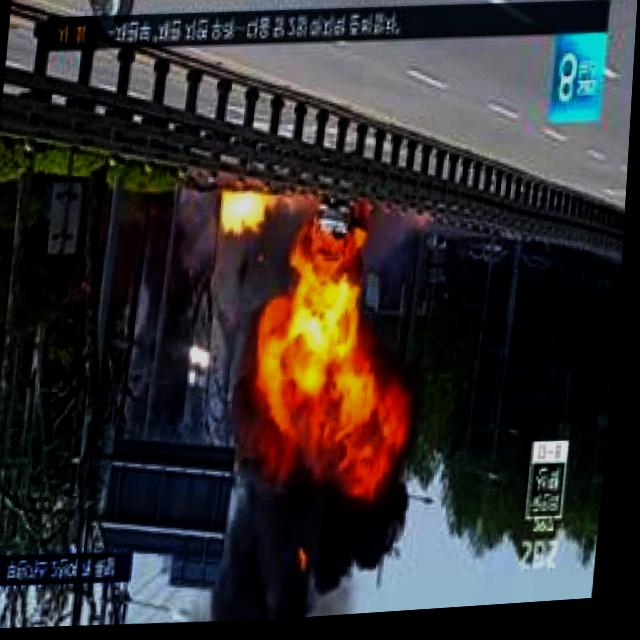Fire: (234, 197, 438, 517), (218, 192, 269, 235)
Smoke: (219, 494, 423, 627)
